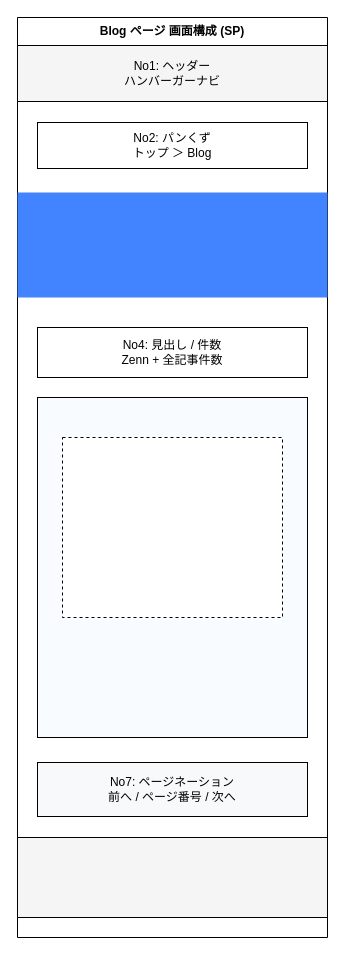
This 345x955 diagram has some shape labels left out. Each missing label, with the centre of its shape:
"No3: 下層タイトル Blog / ブログ" goes at point (172, 244).
"No6: カード要素 絵文字 / 日付 / タイトル / タグ / ♡" goes at point (172, 527).
"No8: フッター" goes at point (172, 877).
